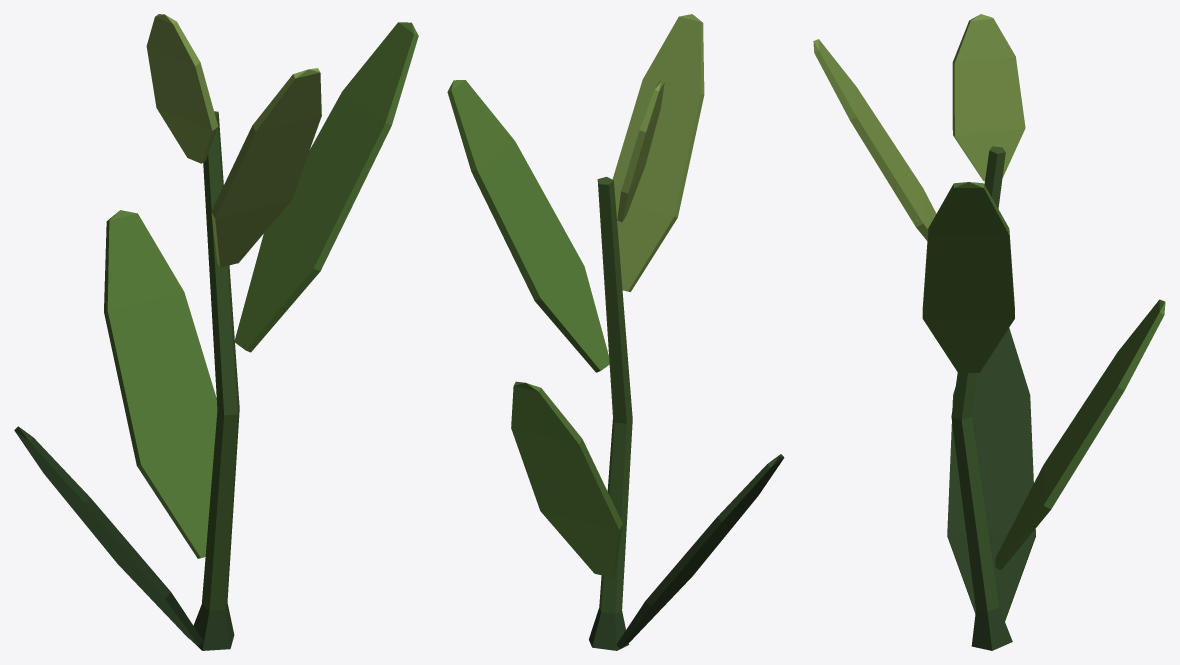
File: kelp.gltf
3 renders of one model, left to right at view 1: azimuth 30°, elevation 25°; view 2: azimuth 150°, elevation 25°; view 3: azimuth 270°, elevation 25°, orthographic. The views are drawn at different scales.
Parts seen in each view (by area): view 1: kelp; view 2: kelp; view 3: kelp.
Part boxes in pixels (<box>): kelp: <box>14,14,418,650</box>; kelp: <box>447,14,784,650</box>; kelp: <box>813,14,1165,650</box>.
Size of the model in its own units: 0.7513 by 1.22 by 0.6449.
